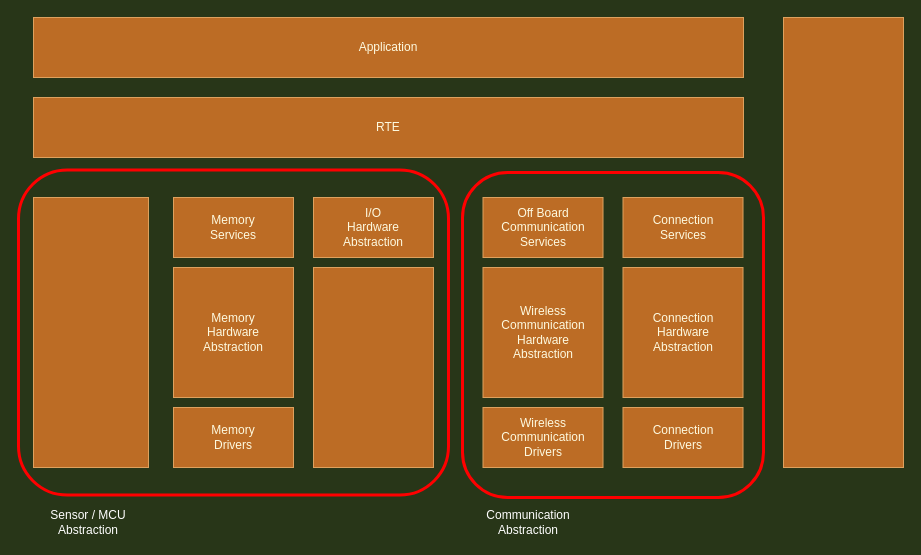
This 921x555 diagram has some shape labels left out. Here are the shapes that lost their labels. From the top down, the centre of each, then its label:
the point at 843,242: Diagnostic Service
the point at 90,332: OS Services
the point at 373,367: I/O Drivers
